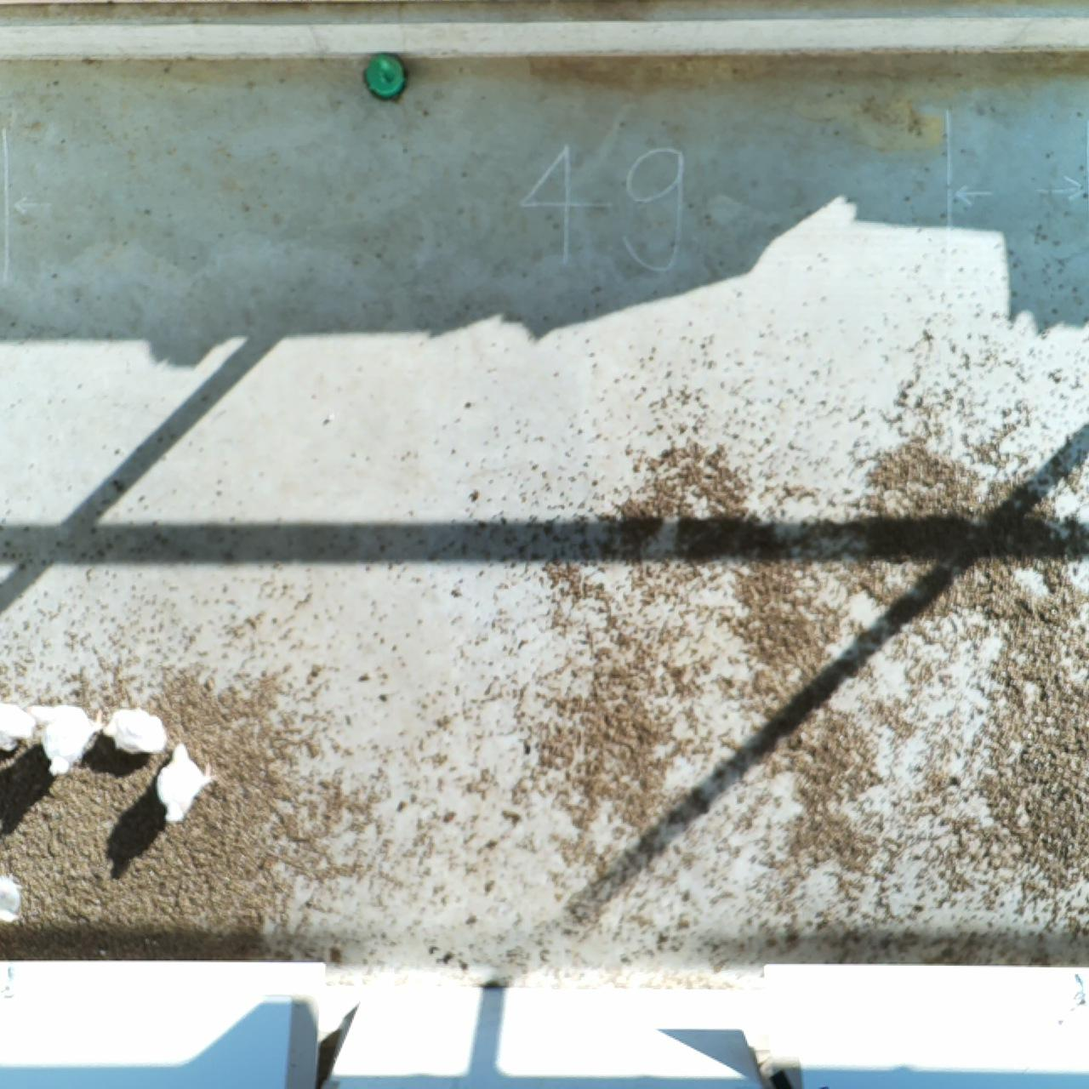chicken: (26, 701, 107, 783), (152, 740, 218, 828), (100, 701, 168, 762), (0, 700, 34, 757), (0, 867, 27, 924)
